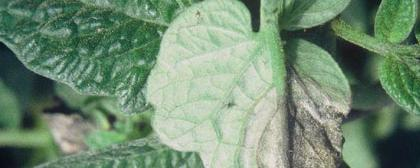Tomato leaf late blight: (136, 0, 420, 168)
